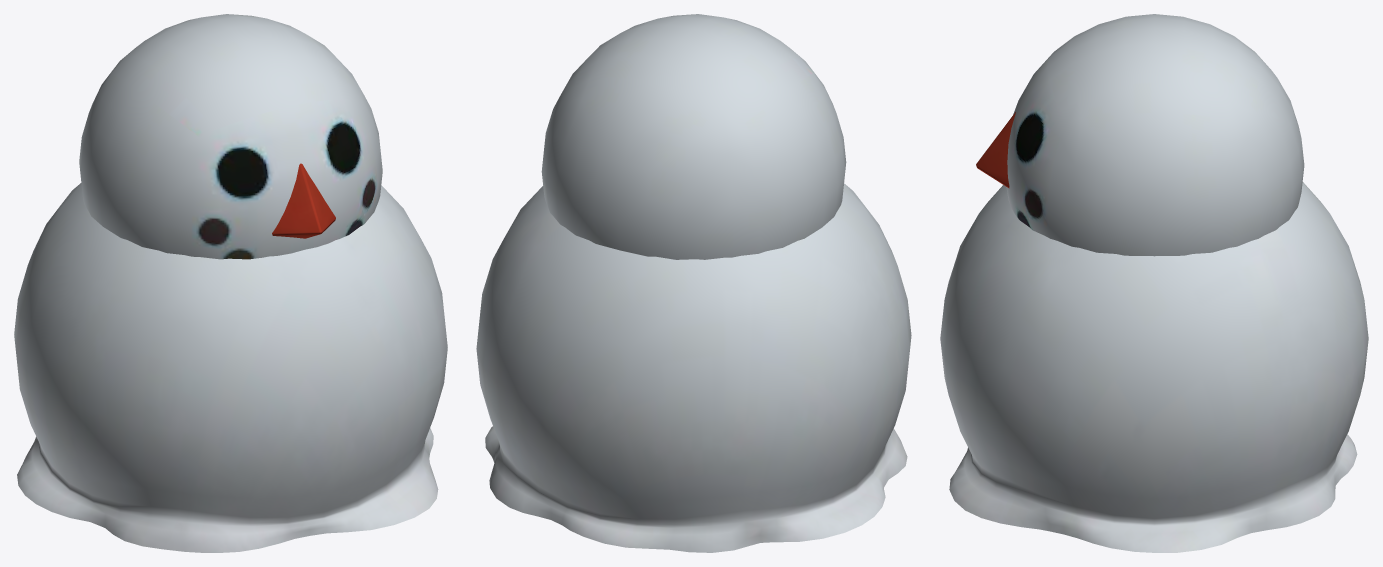
File: snowboy-1.glb
3 views of the same model, side by side, from view 1: azimuth 30°, elevation 25°; view 2: azimuth 150°, elevation 25°; view 3: azimuth 270°, elevation 25° (orthographic).
Size of the model in its own units: 10.02 by 11.04 by 9.91.
2 materials, 2 textured.
